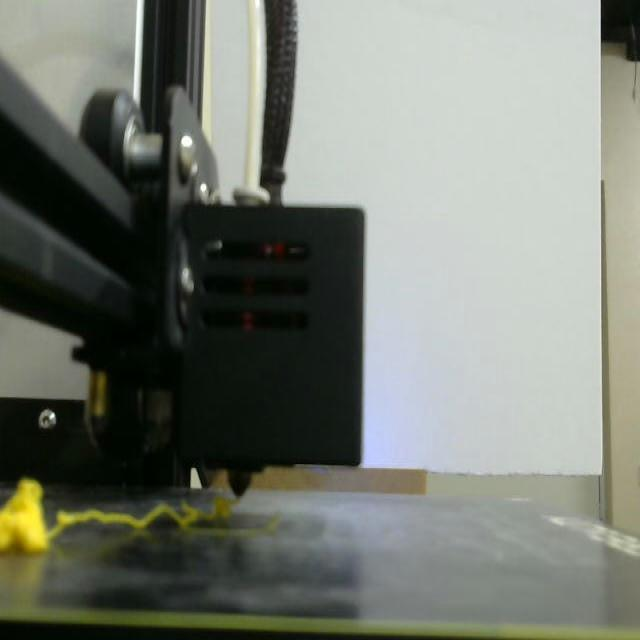spaghetti: (0, 478, 232, 552)
